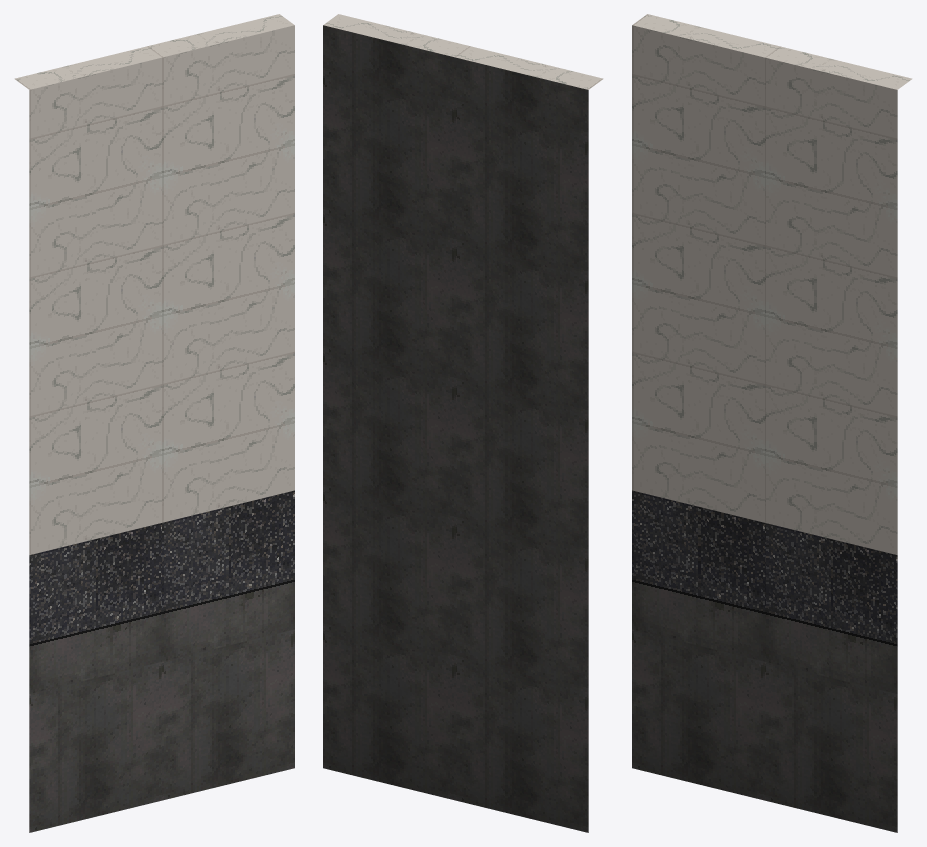
File: track_wall.glb
The picture shows the model from 3 angles, left to right: view 1: azimuth 30°, elevation 25°; view 2: azimuth 150°, elevation 25°; view 3: azimuth 330°, elevation 25°; orthographic projection.
Parts seen in each view (by area): view 1: track_wall; view 2: track_wall; view 3: track_wall.
Boxes of the visible parts, x1,y1,x2,y2 form: track_wall: [14, 14, 294, 832]; track_wall: [323, 14, 603, 832]; track_wall: [632, 14, 912, 832].
Size of the model in its own units: 2 by 5.35 by 0.2.
1 material, 1 textured.
